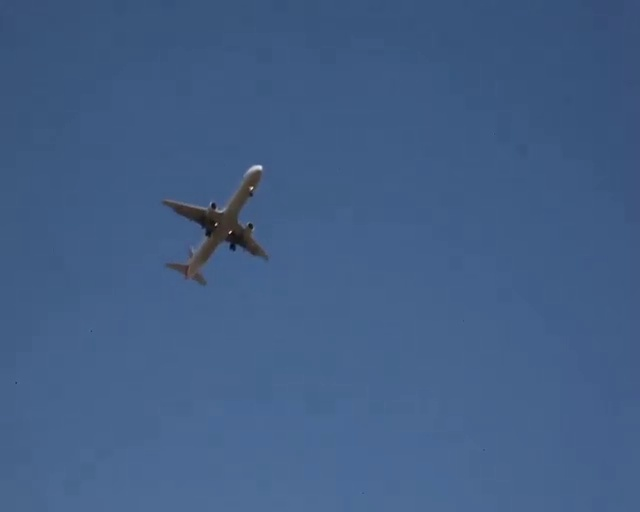AIRPLANE: (159, 164, 269, 285)
